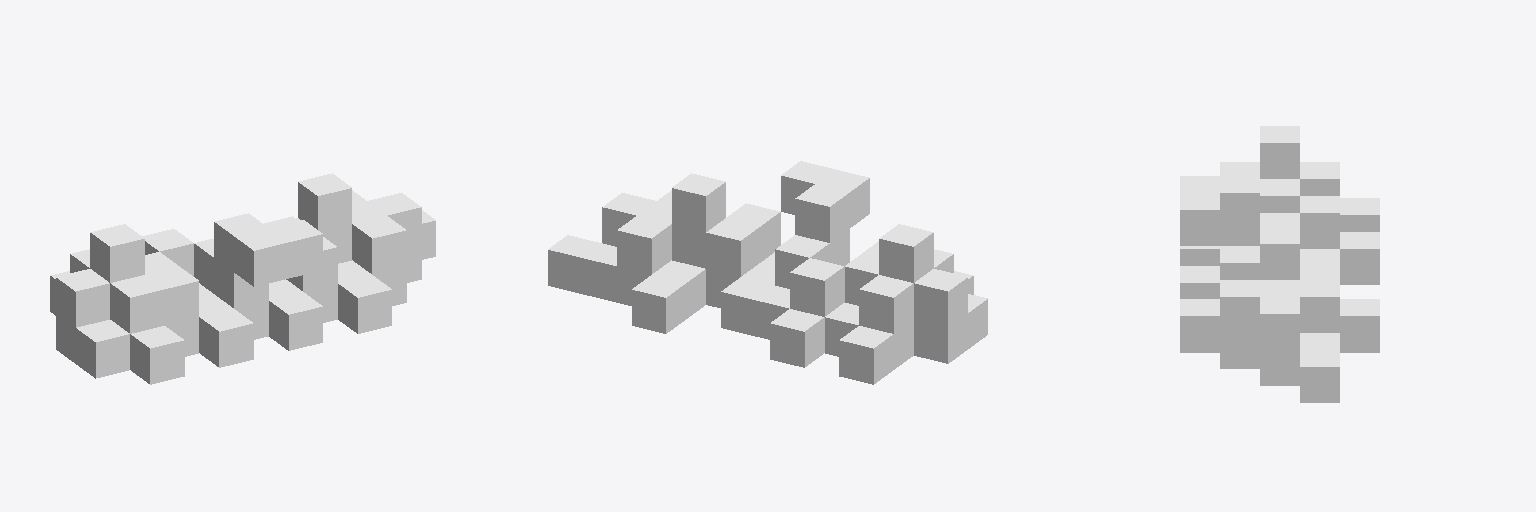
The model's file is WaterPlantCoral1.obj.
3 views of the same model, side by side, from view 1: azimuth 30°, elevation 25°; view 2: azimuth 150°, elevation 25°; view 3: azimuth 270°, elevation 25° (orthographic).
Visible parts, largest first — view 1: object 1; view 2: object 1; view 3: object 1.
Boxes of the visible parts, x1=… form: object 1: x1=50, y1=173, x2=435, y2=384; object 1: x1=548, y1=161, x2=987, y2=384; object 1: x1=1180, y1=126, x2=1379, y2=402.
Bounding box in the file's own units: 1.1 × 0.3 × 0.5.